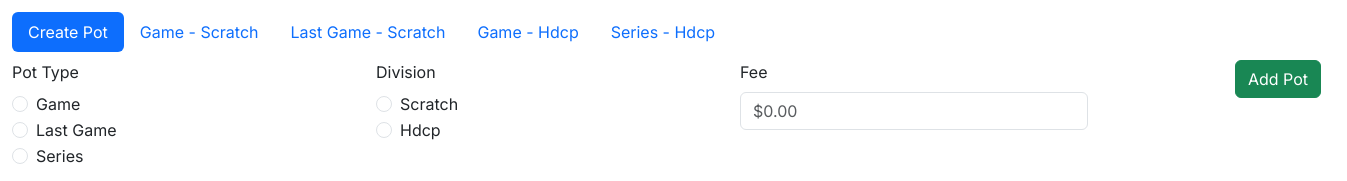
Test: ZeroToNPots - Component › render the component › render the 1st pot › render the pot type value
The image size is (1347, 181).
Click the tab "Game - Scratch". click: click(199, 32)
box: left=124, top=12, right=274, bottom=52
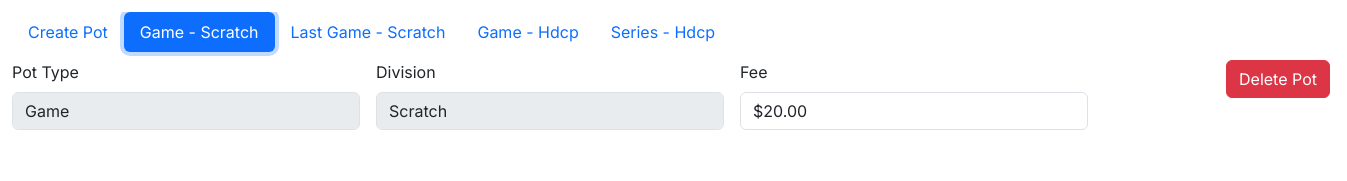
Expected: the number of fields labelled "Pot Type" is 4
Expected: the field labelled "Pot Type" holds "Game", left=12, top=92, right=360, bottom=130
Expected: the field labelled "Pot Type" is disabled, left=12, top=92, right=360, bottom=130
